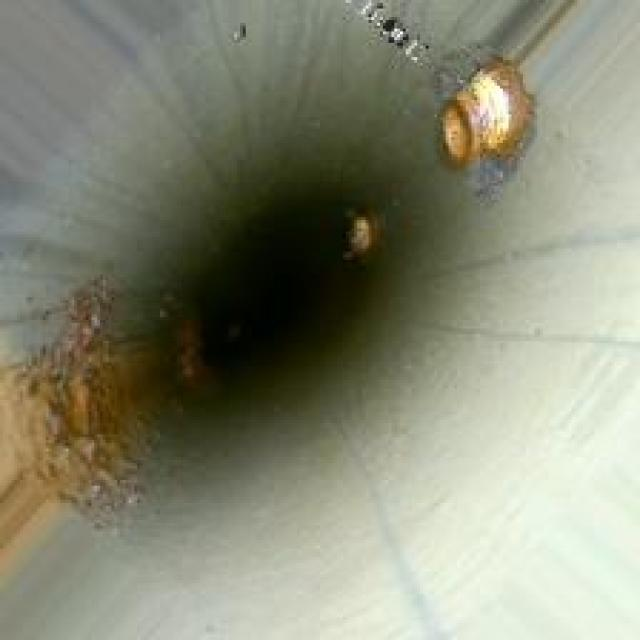ferrule: (423, 60, 548, 166), (334, 212, 400, 257)
